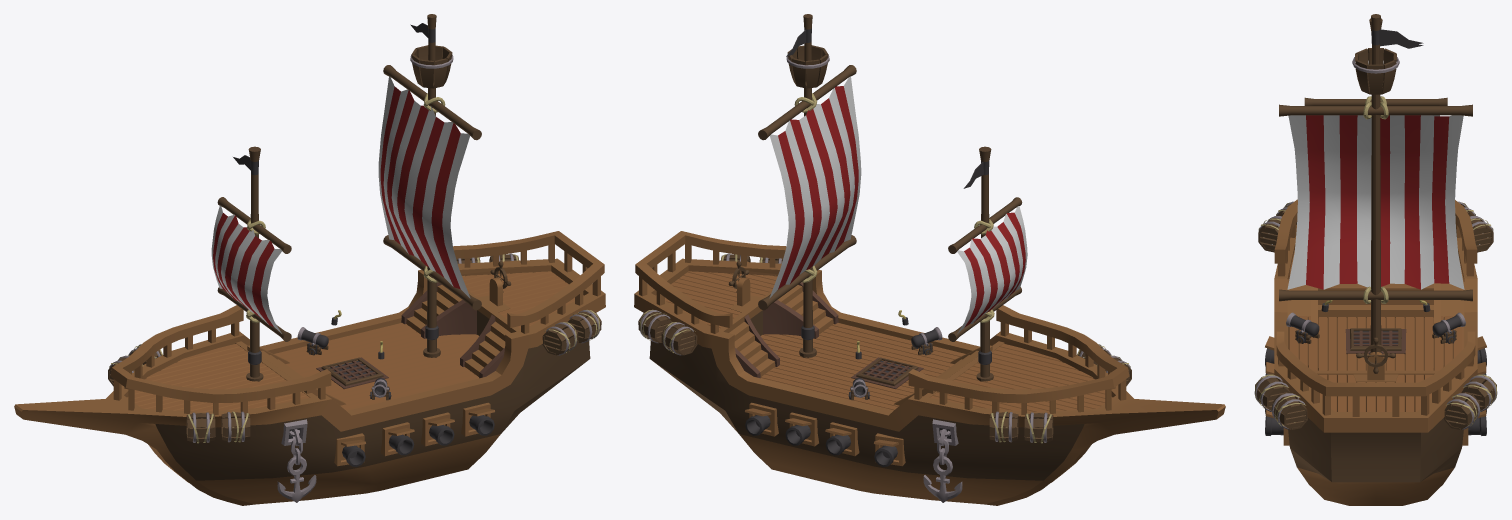
File: ship.glb
3 renders of one model, left to right at view 1: azimuth 30°, elevation 25°; view 2: azimuth 150°, elevation 25°; view 3: azimuth 270°, elevation 25°, orthographic. The views are drawn at different scales.
Parts seen in each view (by area): view 1: Ship_Large; view 2: Ship_Large; view 3: Ship_Large.
Boxes of the visible parts, box(x1,y1,x2,y2) form: Ship_Large: box(14, 14, 605, 505); Ship_Large: box(634, 14, 1225, 505); Ship_Large: box(1254, 14, 1497, 505).
Size of the model in its own units: 15.43 by 11.48 by 5.3.
1 material, 1 textured.
